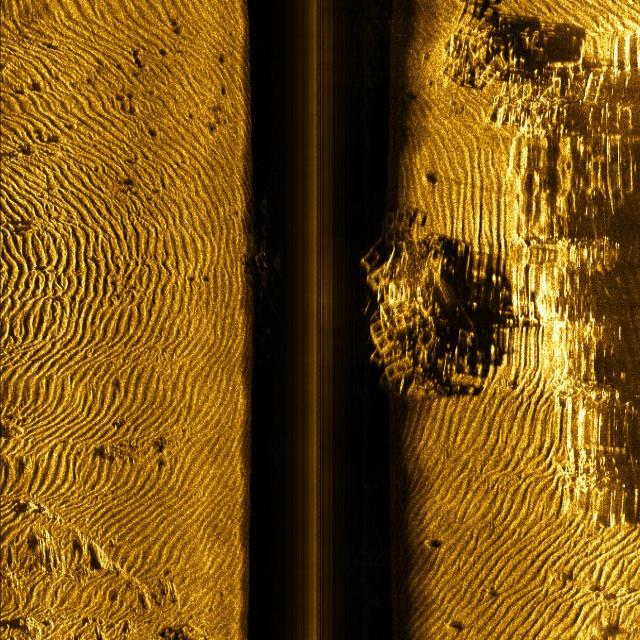artificial reef: (356, 202, 469, 408), (444, 3, 584, 129), (254, 194, 297, 318)
